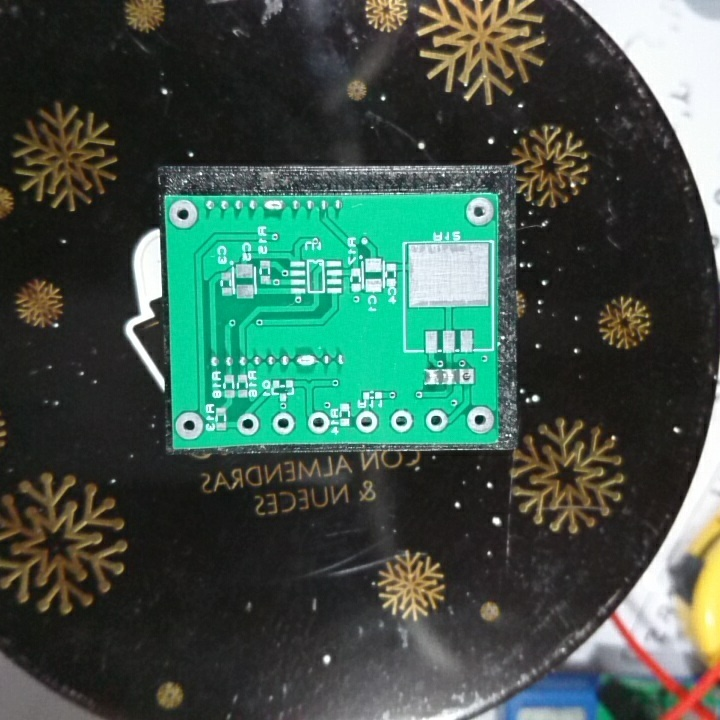F: (167, 196, 200, 235), (465, 403, 496, 438), (173, 409, 204, 441), (464, 195, 494, 228), (387, 406, 416, 435), (353, 407, 381, 435), (421, 407, 450, 434), (268, 410, 296, 436), (305, 409, 332, 435), (236, 410, 260, 437), (458, 365, 479, 389)
P: (261, 195, 287, 218), (295, 350, 319, 373)
